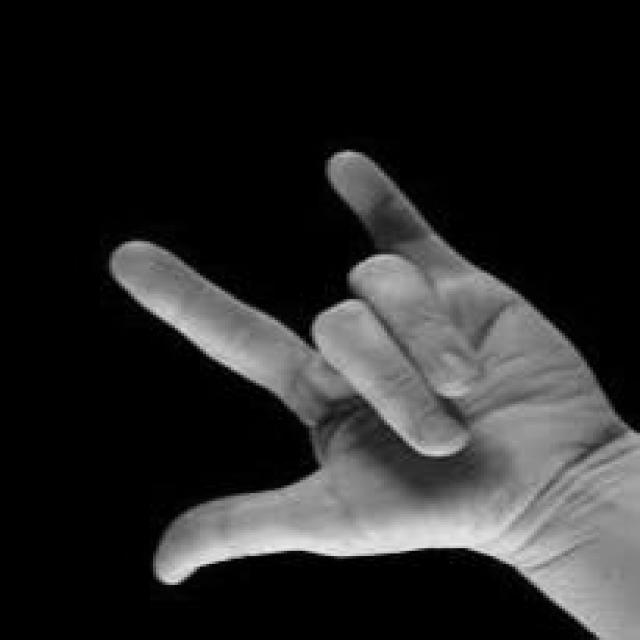i love you: (99, 142, 640, 595)
